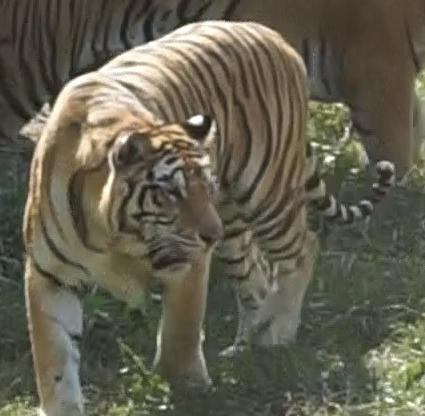tiger: (23, 21, 324, 415)
